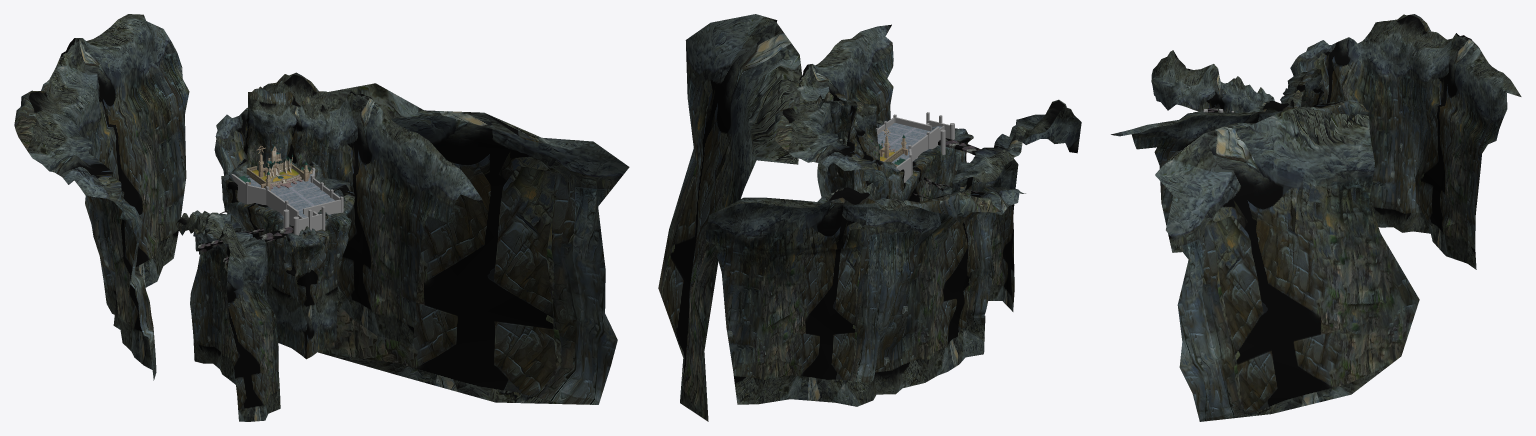
File: MainCity.FBX
3 renders of one model, left to right at view 1: azimuth 30°, elevation 25°; view 2: azimuth 150°, elevation 25°; view 3: azimuth 270°, elevation 25°, orthographic. The views are drawn at different scales.
Visible parts, largest first — view 1: mountainBG, lightcover, Mountain1, Maincity_Wall, Castle, Maincity_Ground_01, Mountain_Bridge; view 2: mountainBG, lightcover, Mountain1, Maincity_Wall, Maincity_Ground_01, Castle, Mountain_Bridge; view 3: lightcover, mountainBG.
Boxes of the visible parts, bbox=[...] form: mountainBG: bbox=[14, 14, 482, 380]; lightcover: bbox=[310, 83, 629, 404]; Mountain1: bbox=[176, 159, 355, 421]; Maincity_Wall: bbox=[230, 167, 343, 235]; Castle: bbox=[238, 145, 312, 190]; Maincity_Ground_01: bbox=[248, 172, 334, 217]; Mountain_Bridge: bbox=[197, 210, 293, 264]; mountainBG: bbox=[705, 24, 1081, 406]; lightcover: bbox=[658, 14, 802, 421]; Mountain1: bbox=[823, 120, 1018, 311]; Maincity_Wall: bbox=[837, 112, 954, 192]; Maincity_Ground_01: bbox=[877, 123, 941, 164]; Castle: bbox=[878, 127, 907, 166]; Mountain_Bridge: bbox=[892, 138, 980, 200]; lightcover: bbox=[1155, 106, 1419, 421]; mountainBG: bbox=[1111, 14, 1521, 269].
Bounding box in the file's own units: 65660 × 46228 × 64633.
